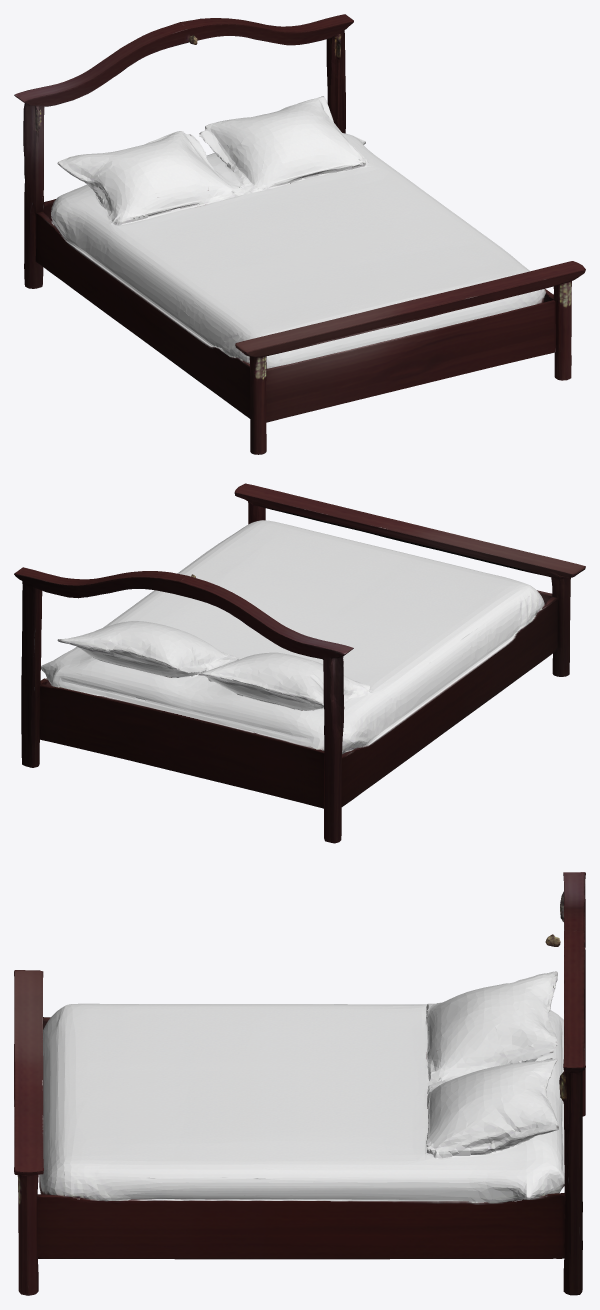
The model's file is 2pics-3.glb.
3 renders of one model, top to bottom at view 1: azimuth 30°, elevation 25°; view 2: azimuth 150°, elevation 25°; view 3: azimuth 270°, elevation 25°, orthographic. The views are drawn at different scales.
Parts seen in each view (by area): view 1: world; view 2: world; view 3: world.
Part boxes in pixels (left/top/right/bottom): world: left=14, top=14, right=585, bottom=454; world: left=14, top=483, right=585, bottom=843; world: left=14, top=872, right=585, bottom=1295.
Bounding box in the file's own units: 0.8373 × 0.5233 × 1.
1 material, 1 textured.
